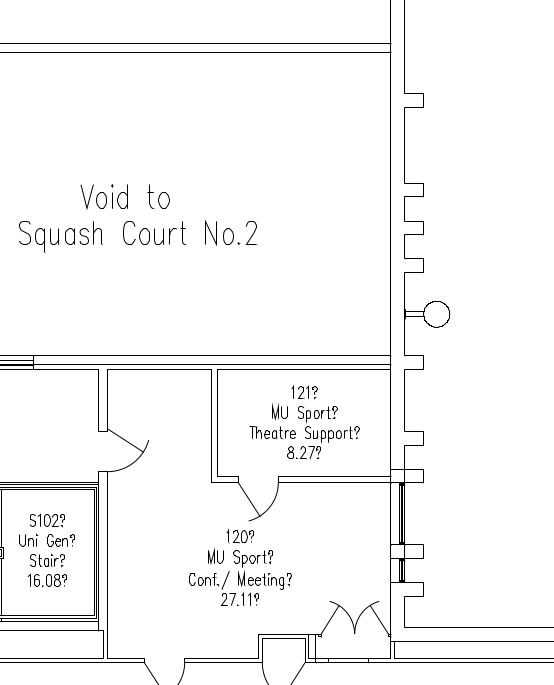door: (105, 421, 160, 475), (319, 597, 389, 636), (226, 482, 283, 522)
